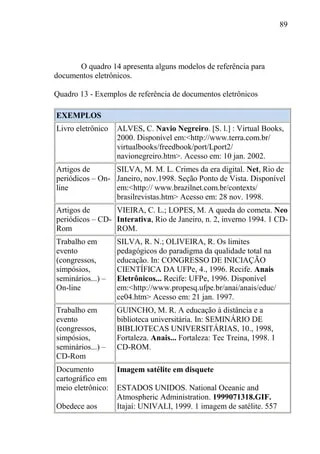Texto: (52, 62, 294, 415)
